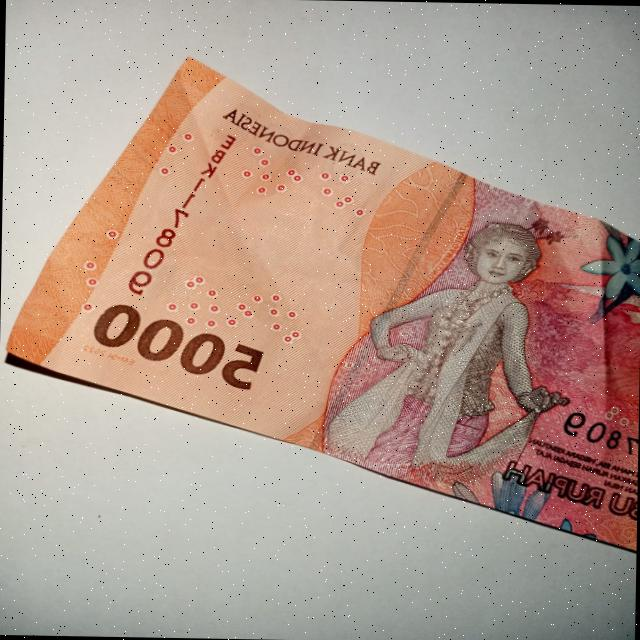5K: (0, 47, 640, 573)
